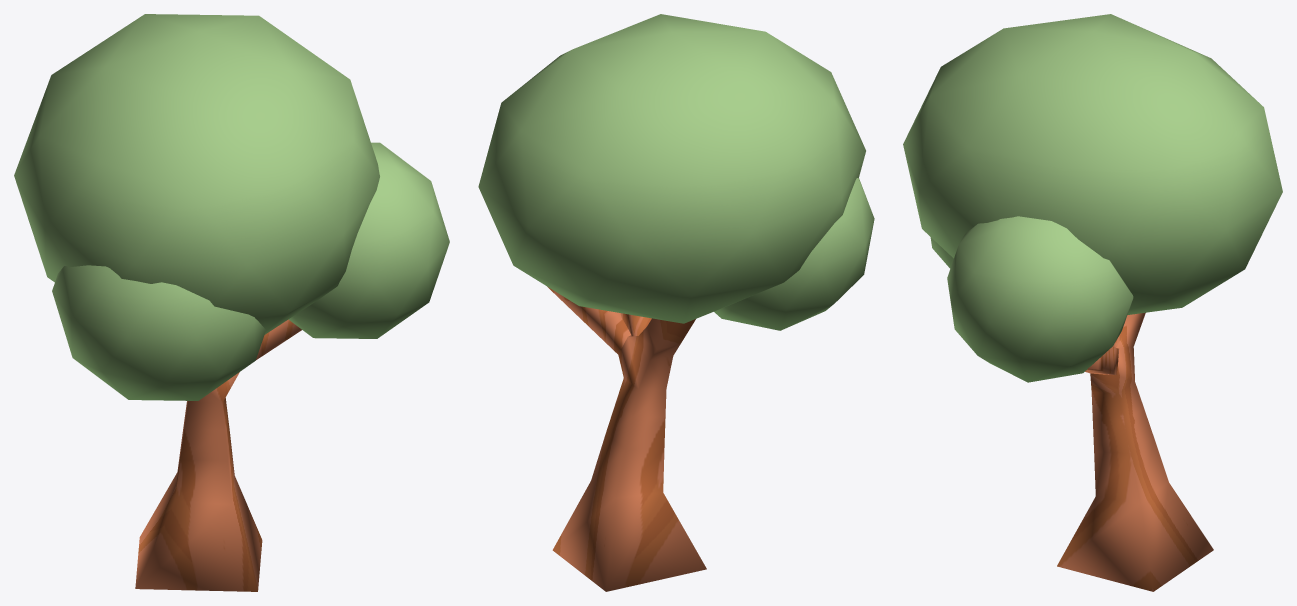
File: OBJ_Tree_003.fbx
3 views of the same model, side by side, from view 1: azimuth 30°, elevation 25°; view 2: azimuth 150°, elevation 25°; view 3: azimuth 270°, elevation 25° (orthographic). The views are drawn at different scales.
Parts seen in each view (by area): view 1: Icosphere.004, Icosphere.006, Cube.006, Icosphere.005; view 2: Icosphere.004, Cube.006, Icosphere.006; view 3: Icosphere.004, Icosphere.005, Cube.006.
Part boxes in pixels (<box>): Icosphere.004: <box>14,14,379,334</box>; Icosphere.006: <box>52,265,265,400</box>; Cube.006: <box>135,319,301,591</box>; Icosphere.005: <box>288,142,449,338</box>; Icosphere.004: <box>478,14,865,323</box>; Cube.006: <box>547,286,706,591</box>; Icosphere.006: <box>714,178,874,330</box>; Icosphere.004: <box>903,14,1282,314</box>; Icosphere.005: <box>947,216,1133,382</box>; Cube.006: <box>1057,312,1213,591</box>.
Bounding box in the file's own units: 4928 × 6941 × 4626.
